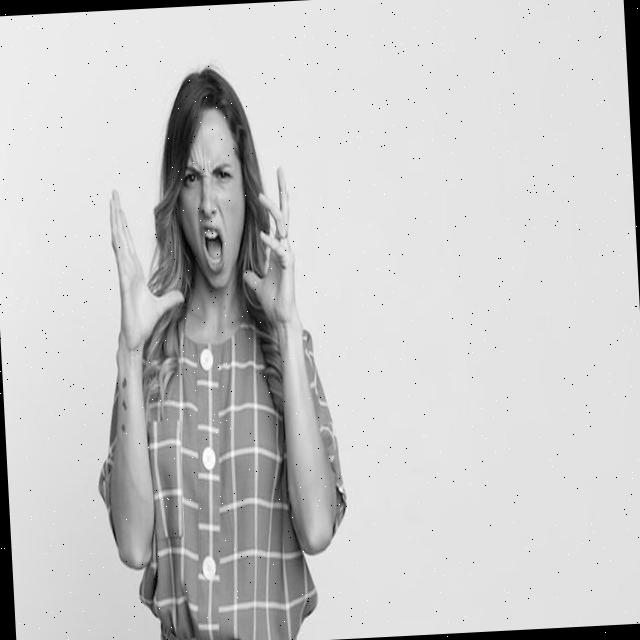Angry: (174, 106, 250, 290)
